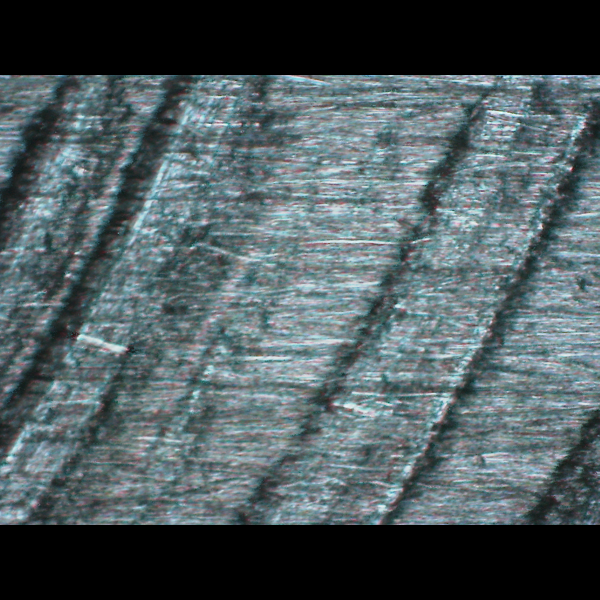d: (232, 75, 600, 519), (4, 79, 258, 524)
